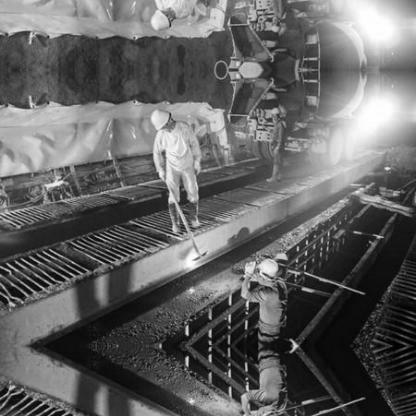helmet: (148, 105, 174, 135), (148, 3, 174, 33), (256, 256, 281, 286), (255, 404, 281, 415), (269, 104, 280, 121), (269, 18, 280, 35)
